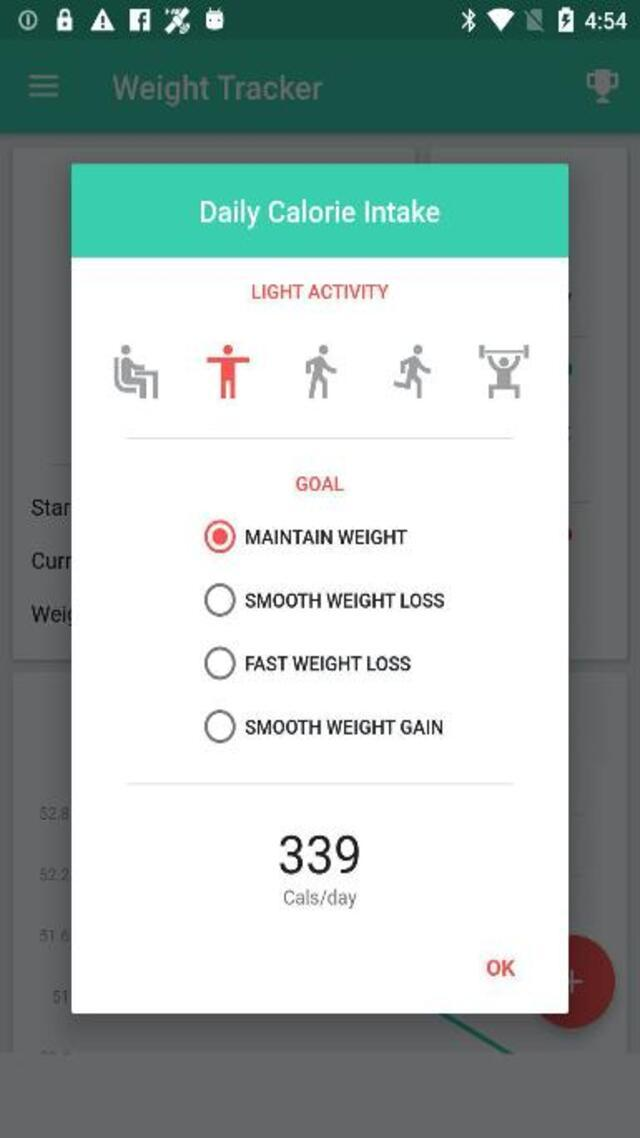CheckedTextView: (204, 582, 443, 616), (203, 709, 442, 742), (204, 646, 410, 680), (205, 518, 408, 552)
Icon: (586, 70, 618, 104), (28, 74, 58, 97)
Image: (478, 344, 530, 399), (114, 344, 159, 399), (206, 344, 249, 399), (394, 344, 432, 399), (305, 344, 337, 399)
Text: (202, 198, 440, 230), (110, 74, 322, 106), (279, 833, 359, 874), (244, 592, 443, 606), (245, 720, 443, 734), (247, 529, 408, 545), (245, 656, 410, 670), (252, 284, 390, 300), (282, 888, 356, 908), (297, 476, 345, 492), (486, 959, 514, 977)
